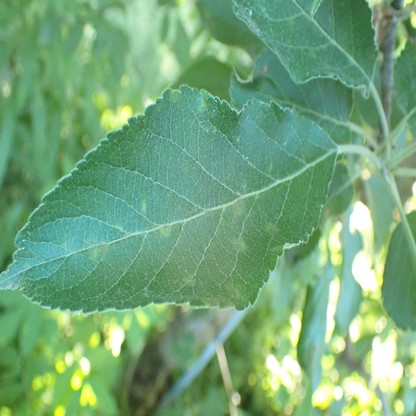scab: (85, 241, 107, 259), (232, 198, 244, 217), (266, 220, 280, 236), (202, 295, 219, 308), (227, 282, 240, 299), (231, 237, 245, 252), (184, 274, 196, 286), (160, 224, 171, 237), (141, 200, 147, 213), (220, 295, 227, 302)
